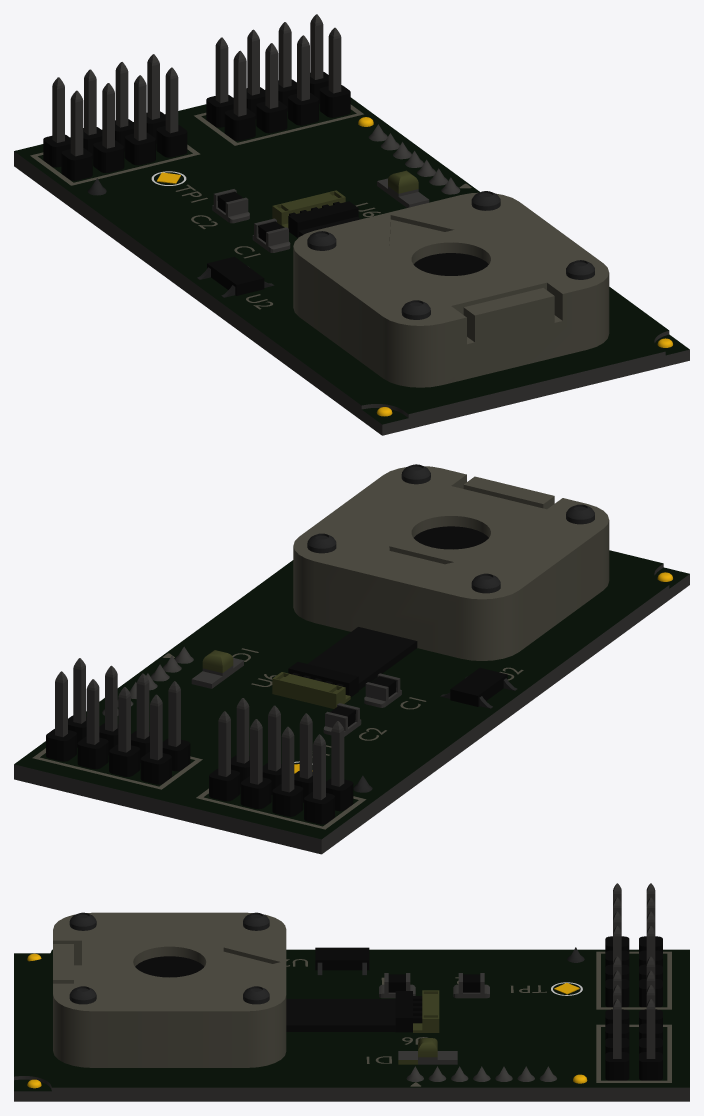
File: BMV081.obj
3 renders of one model, top to bottom at view 1: azimuth 30°, elevation 25°; view 2: azimuth 150°, elevation 25°; view 3: azimuth 270°, elevation 25°, orthographic. The views are drawn at different scales.
Visible parts, largest first — view 1: Text.010; view 2: Text.010; view 3: Text.010.
Boxes of the visible parts, x1,y1,x2,y2 form: Text.010: (14, 14, 689, 435); Text.010: (14, 464, 689, 854); Text.010: (14, 883, 689, 1101).
Bounding box in the file's own units: 1.05 × 0.3207 × 2.17.
